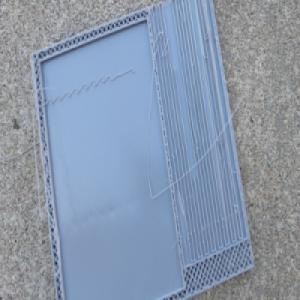PlasticPart: (30, 0, 256, 300)
